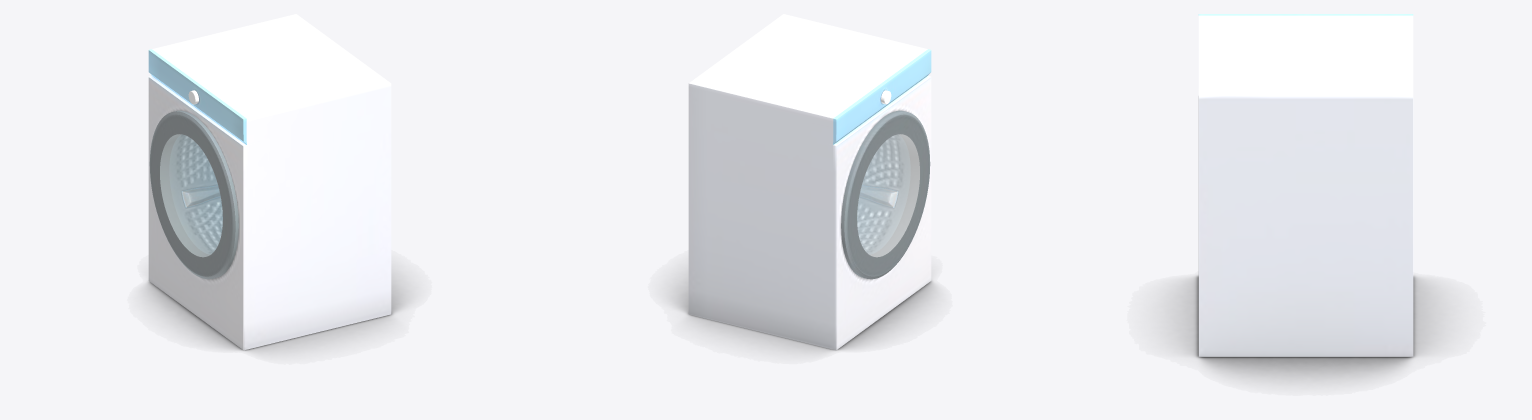
The model's file is washer.gltf.
3 renders of one model, left to right at view 1: azimuth 30°, elevation 25°; view 2: azimuth 150°, elevation 25°; view 3: azimuth 270°, elevation 25°, orthographic. The views are drawn at different scales.
Visible parts, largest first — view 1: Washer_body, Washer_frame, Washer_window, Washer_inside.1, Washer_shadow; view 2: Washer_body, Washer_frame, Washer_window, Washer_inside.1, Washer_shadow; view 3: Washer_body, Washer_shadow.
Part boxes in pixels (bbox=[...]): Washer_body: bbox=[148, 14, 391, 350]; Washer_frame: bbox=[149, 110, 238, 279]; Washer_window: bbox=[160, 134, 222, 257]; Washer_inside.1: bbox=[169, 134, 222, 254]; Washer_shadow: bbox=[146, 277, 404, 350]; Washer_body: bbox=[688, 14, 931, 350]; Washer_frame: bbox=[841, 110, 930, 279]; Washer_window: bbox=[857, 134, 919, 257]; Washer_inside.1: bbox=[857, 134, 910, 254]; Washer_shadow: bbox=[675, 278, 933, 350]; Washer_body: bbox=[1198, 14, 1413, 356]; Washer_shadow: bbox=[1177, 275, 1433, 378].
Bounding box in the file's own units: 300 × 204 × 300.
4 materials, 4 textured.
